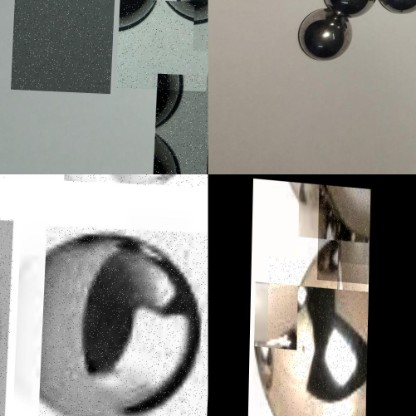ironball: (41, 222, 208, 415), (266, 254, 369, 415), (11, 0, 115, 90), (117, 0, 208, 87), (154, 70, 208, 173), (317, 182, 370, 280), (295, 9, 354, 62), (319, 0, 376, 16), (379, 0, 415, 19)
